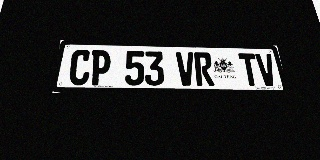3: (145, 51, 164, 86)
5: (125, 51, 144, 85)
C: (68, 50, 92, 85)
P: (89, 50, 111, 85)
R: (194, 52, 215, 86)
T: (238, 53, 261, 86)
V: (255, 53, 278, 86), (176, 52, 196, 86)
